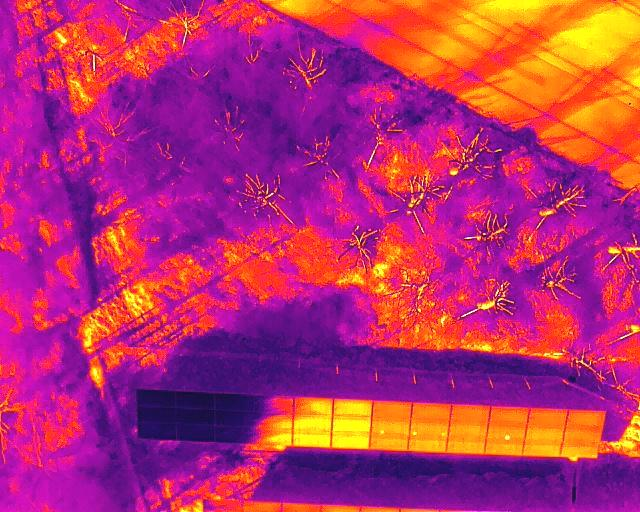Cell: (488, 422, 526, 438), (371, 418, 409, 434)
Cell-Multi: (410, 420, 449, 436)
No-Anomaly: (294, 396, 332, 415), (333, 399, 372, 417), (411, 402, 450, 420), (332, 415, 370, 433), (295, 414, 332, 432), (566, 409, 605, 426), (528, 408, 567, 425), (451, 404, 489, 421), (489, 407, 529, 423), (372, 402, 411, 418), (448, 422, 486, 438), (371, 434, 409, 450), (523, 439, 560, 455), (525, 424, 564, 439), (484, 439, 523, 454), (409, 437, 448, 452), (564, 425, 602, 440), (331, 433, 369, 448), (562, 440, 597, 456), (447, 437, 484, 452), (294, 433, 329, 448)
Shadowing: (216, 394, 258, 413), (174, 390, 216, 408), (294, 396, 332, 415), (174, 408, 215, 425), (214, 413, 257, 429), (174, 426, 213, 443), (137, 390, 173, 408), (138, 407, 174, 425), (215, 431, 258, 446), (259, 397, 294, 415), (257, 414, 293, 431), (138, 426, 174, 439), (258, 433, 294, 446)
